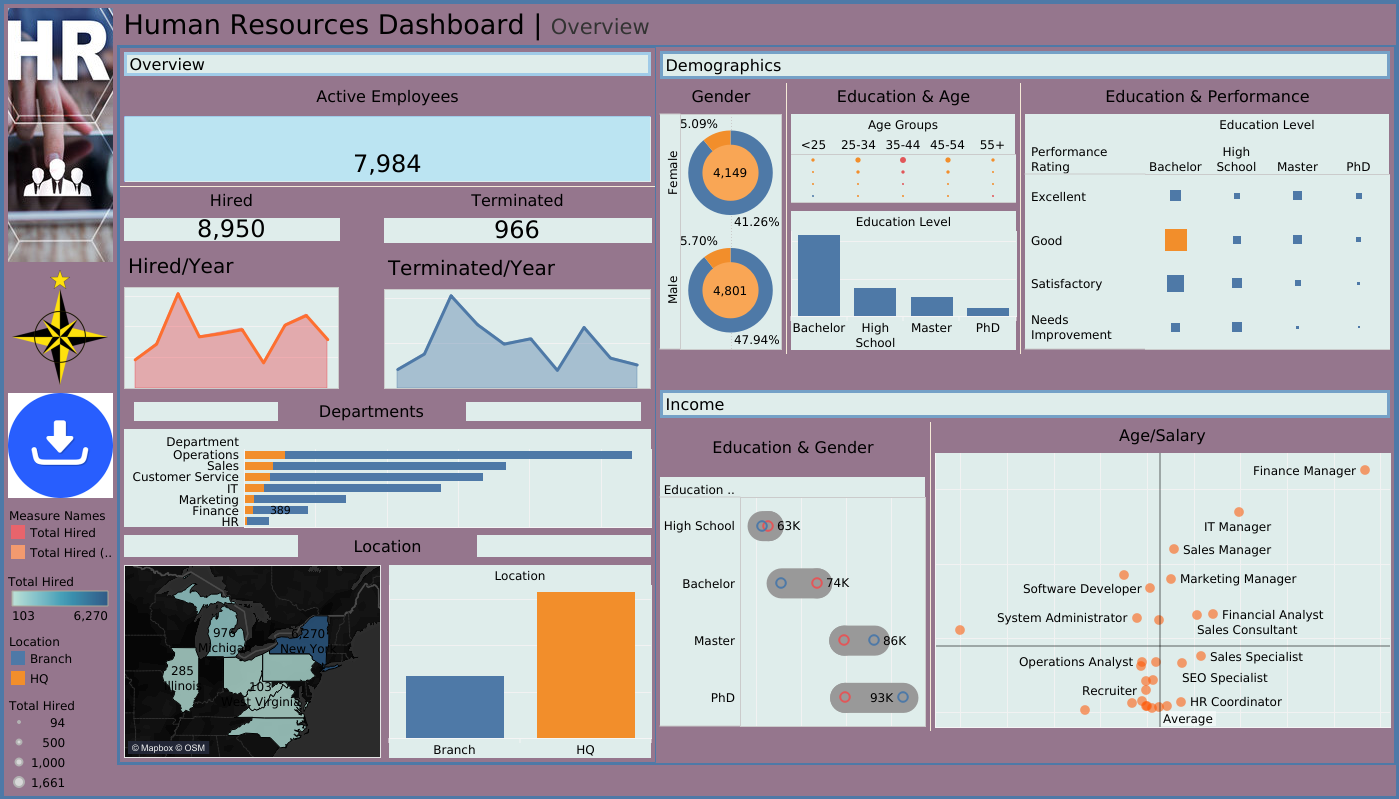

The dashboard page shown, as its layout file describes it:
{"tool":"tableau","page":{"name":"HR Dashboard","canvas":[1400,800],"ordinal":0},"visuals":[{"type":"image","param":"Image/HR pic.jpg","box":[4,4,113,262]},{"type":"text","box":[117,4,1279,40]},{"type":"text","box":[656,46,738,36]},{"type":"text","box":[120,47,535,32]},{"type":"text","box":[120,79,535,32]},{"type":"text","box":[656,82,130,27]},{"type":"blank","box":[786,82,1,271]},{"type":"text","box":[787,82,233,27]},{"type":"blank","box":[1020,82,1,271]},{"type":"text","box":[1021,82,373,27]},{"type":"worksheet","title":"Males/Females","mark":"Pie","rows":["Gender"],"cols":["Calculation_948289263867023372","Calculation_948289263867023372"],"box":[656,109,130,244]},{"type":"worksheet","title":"Age Groups/Education Level","mark":"Circle","rows":["Education Level"],"cols":["Calculation_1159395429736685568"],"box":[787,109,233,97]},{"type":"worksheet","title":"Education Level/Performance Rating","mark":"Automatic","rows":["Performance Rating"],"cols":["Education Level"],"box":[1021,109,373,244]},{"type":"worksheet","title":"BAN Active","mark":"Text","box":[120,111,535,66]},{"type":"blank","box":[120,177,535,1]},{"type":"text","box":[120,178,223,27]},{"type":"blank","box":[343,178,37,206]},{"type":"text","box":[380,178,275,27]},{"type":"worksheet","title":"BAN Hired","mark":"Text","box":[120,205,223,30]},{"type":"worksheet","title":"BAN Terminated","mark":"Text","box":[380,205,275,32]},{"type":"worksheet","title":"Age/Education Bar","mark":"Automatic","rows":["Calculation_948289264231841805"],"cols":["Education Level"],"box":[787,206,233,147]},{"type":"worksheet","title":"Hired/Year","mark":"Automatic","rows":["Calculation_948289263707459584","Calculation_948289263707459584"],"cols":["Hiredate"],"box":[120,235,223,149]},{"type":"worksheet","title":"Terminated/Year","mark":"Automatic","rows":["Calculation_948289263708303361","Calculation_948289263708303361"],"cols":["Hiredate"],"box":[380,237,275,147]},{"type":"dashboard-object","box":[4,266,113,129]},{"type":"text","box":[656,385,738,36]},{"type":"blank","box":[130,389,152,27]},{"type":"text","box":[282,389,179.5,27]},{"type":"blank","box":[461.5,389,183.5,27]},{"type":"dashboard-object","box":[4,395,113,113]},{"type":"worksheet","title":"Total Hired/Departments","mark":"Automatic","rows":["Department"],"cols":["Calculation_948289263707459584"],"box":[120,416,535,114]},{"type":"text","box":[656,421,274,51]},{"type":"blank","box":[930,421,1,309]},{"type":"text","box":[931,421,463,27]},{"type":"worksheet","title":"Jobtitle-Age/Salary","mark":"Automatic","rows":["Salary"],"cols":["Calculation_948289264231841805"],"box":[931,448,463,282]},{"type":"worksheet","title":"Genderwise Salary/Education Level","mark":"Square","rows":["Education Level"],"cols":["Salary","Salary"],"box":[656,472,274,258]},{"type":"legend","title":"Hired/Year","param":"[federated.0hr2myx12a6iwn11rc3ou0ff5jug].[:Measure Names]","box":[4,508,113,63]},{"type":"blank","box":[120,530,182.3,30]},{"type":"text","box":[302.3,530,170.3,30]},{"type":"blank","box":[472.7,530,182.3,30]},{"type":"worksheet","title":"Locations","mark":"Automatic","box":[120,560,265,201]},{"type":"worksheet","title":"HQ & Branch","mark":"Automatic","rows":["Calculation_948289263707459584"],"cols":["Calculation_948289263796330502"],"box":[385,560,270,201]},{"type":"legend","title":"Locations","param":"[federated.0hr2myx12a6iwn11rc3ou0ff5jug].[usr:Calculation_948289263707459584:qk]","box":[4,571,113,59]},{"type":"legend","title":"HQ & Branch","param":"[federated.0hr2myx12a6iwn11rc3ou0ff5jug].[none:Calculation_948289263796330502:nk","box":[4,630,113,63]},{"type":"legend","title":"Age Groups/Education Level","param":"[federated.0hr2myx12a6iwn11rc3ou0ff5jug].[usr:Calculation_948289263707459584:qk]","box":[4,693,113,103]}]}

Visuals, with their boxes in screenshot pixels (x1, y1, x2, y2), scaled from the page's 1400x800 canvas onto the 1399x799 screenshot:
image: box=[4, 4, 117, 266]
text: box=[117, 4, 1395, 44]
text: box=[656, 46, 1393, 82]
text: box=[120, 47, 655, 79]
text: box=[120, 79, 655, 111]
text: box=[656, 82, 785, 109]
blank: box=[785, 82, 786, 353]
text: box=[786, 82, 1019, 109]
blank: box=[1019, 82, 1020, 353]
text: box=[1020, 82, 1393, 109]
"Males/Females" worksheet (Pie marks): box=[656, 109, 785, 353]
"Age Groups/Education Level" worksheet (Circle marks): box=[786, 109, 1019, 206]
"Education Level/Performance Rating" worksheet: box=[1020, 109, 1393, 353]
"BAN Active" worksheet (Text marks): box=[120, 111, 655, 177]
blank: box=[120, 177, 655, 178]
text: box=[120, 178, 343, 205]
blank: box=[343, 178, 380, 384]
text: box=[380, 178, 655, 205]
"BAN Hired" worksheet (Text marks): box=[120, 205, 343, 235]
"BAN Terminated" worksheet (Text marks): box=[380, 205, 655, 237]
"Age/Education Bar" worksheet: box=[786, 206, 1019, 353]
"Hired/Year" worksheet: box=[120, 235, 343, 384]
"Terminated/Year" worksheet: box=[380, 237, 655, 384]
dashboard-object: box=[4, 266, 117, 395]
text: box=[656, 385, 1393, 420]
blank: box=[130, 389, 282, 415]
text: box=[282, 389, 461, 415]
blank: box=[461, 389, 645, 415]
dashboard-object: box=[4, 395, 117, 507]
"Total Hired/Departments" worksheet: box=[120, 415, 655, 529]
text: box=[656, 420, 929, 471]
blank: box=[929, 420, 930, 729]
text: box=[930, 420, 1393, 447]
"Jobtitle-Age/Salary" worksheet: box=[930, 447, 1393, 729]
"Genderwise Salary/Education Level" worksheet (Square marks): box=[656, 471, 929, 729]
"Hired/Year" legend: box=[4, 507, 117, 570]
blank: box=[120, 529, 302, 559]
text: box=[302, 529, 472, 559]
blank: box=[472, 529, 655, 559]
"Locations" worksheet: box=[120, 559, 385, 760]
"HQ & Branch" worksheet: box=[385, 559, 655, 760]
"Locations" legend: box=[4, 570, 117, 629]
"HQ & Branch" legend: box=[4, 629, 117, 692]
"Age Groups/Education Level" legend: box=[4, 692, 117, 795]
